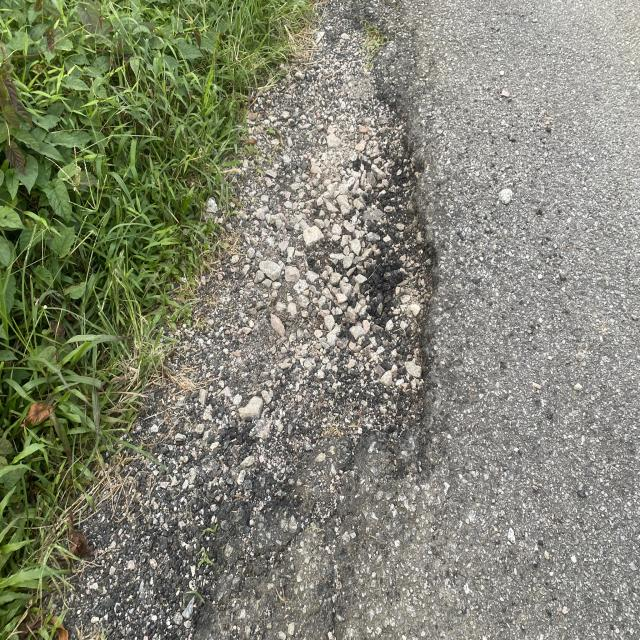Pothole: (313, 99, 455, 540)
